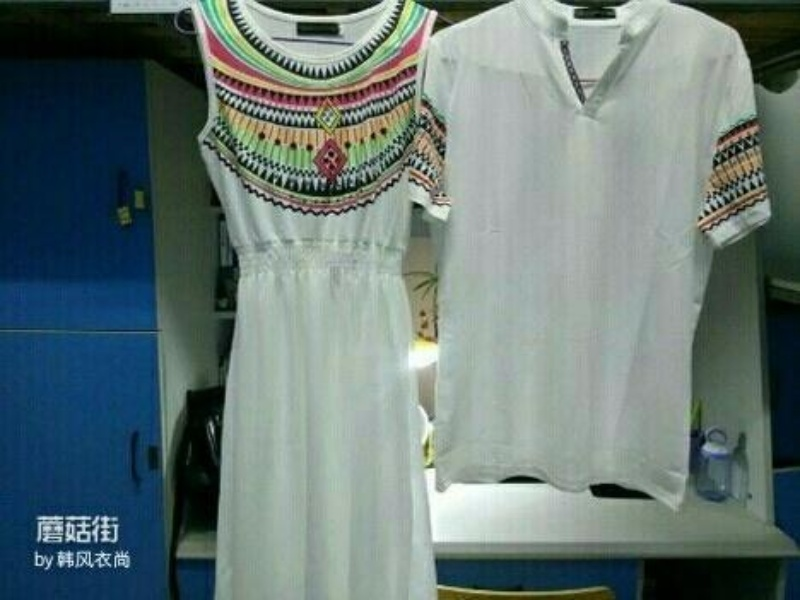short_sleeved_shirt: (398, 0, 773, 518)
vest_dress: (185, 0, 443, 598)
